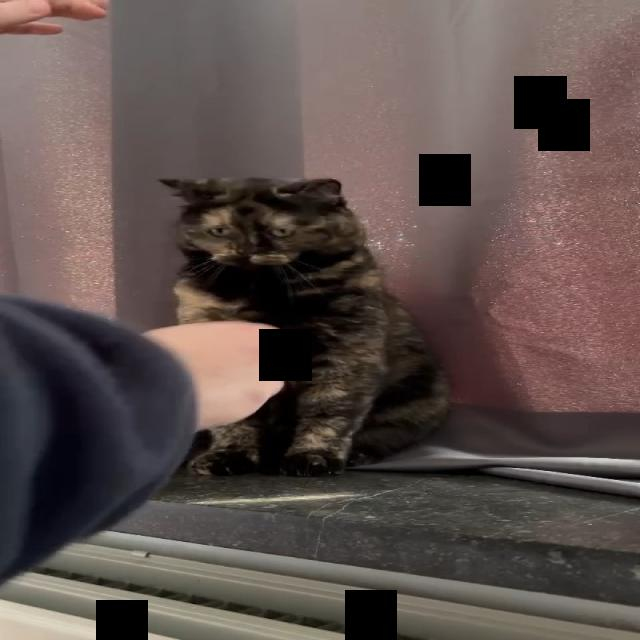authorized: (156, 175, 452, 477)
